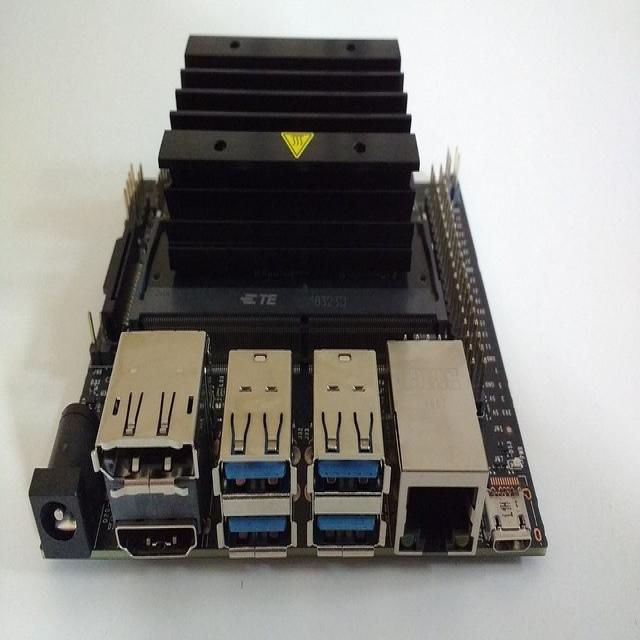Jetson Nano: (29, 36, 549, 559)
